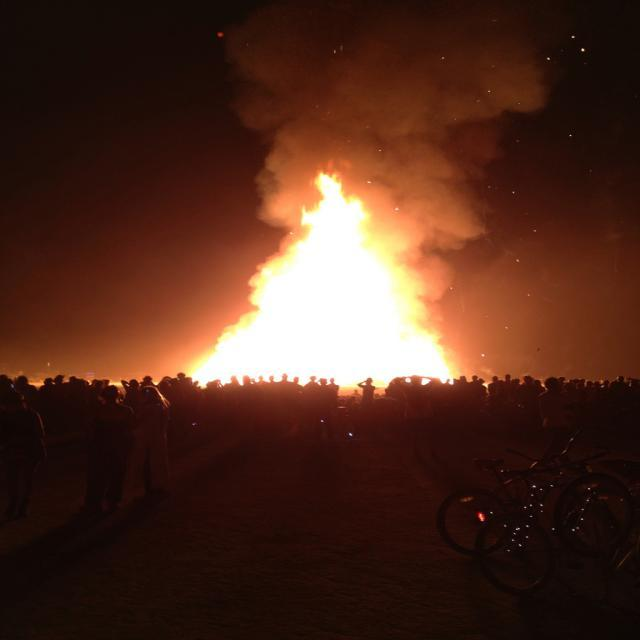Fire: (195, 166, 460, 388)
Smoke: (196, 0, 568, 192)
